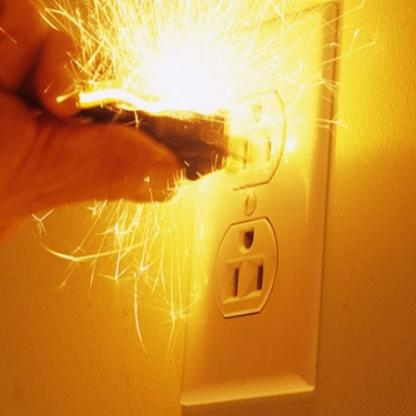fire: (77, 0, 291, 140)
